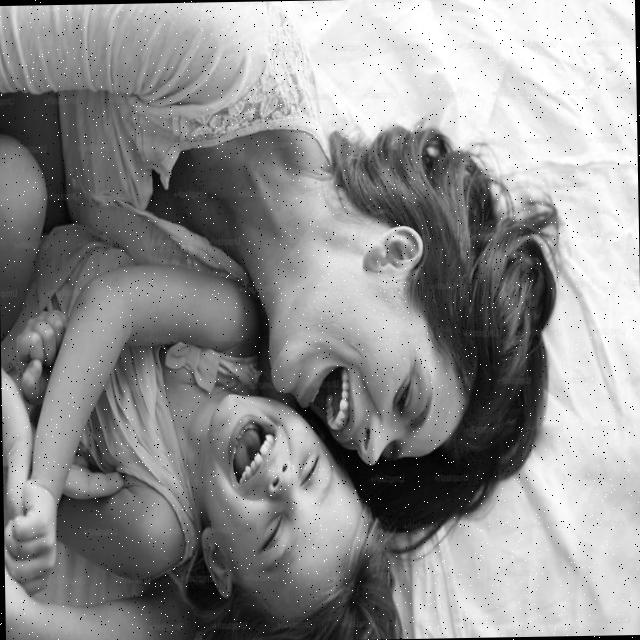Happiness: (198, 391, 366, 624)
